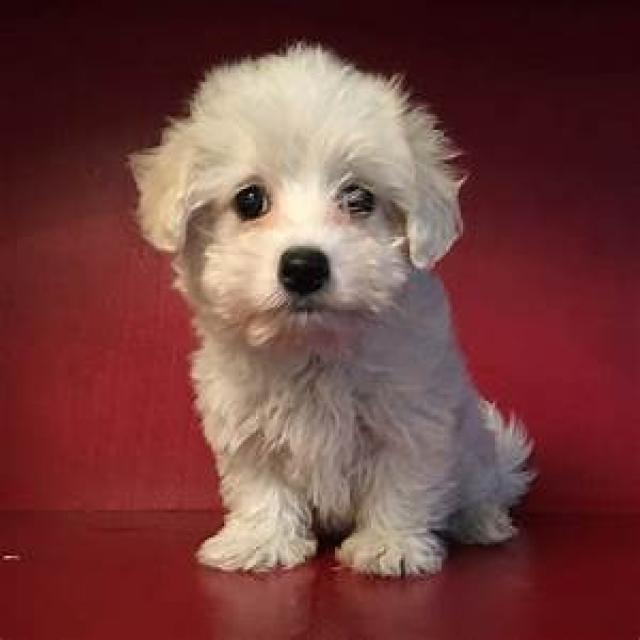dog: (127, 41, 543, 581)
